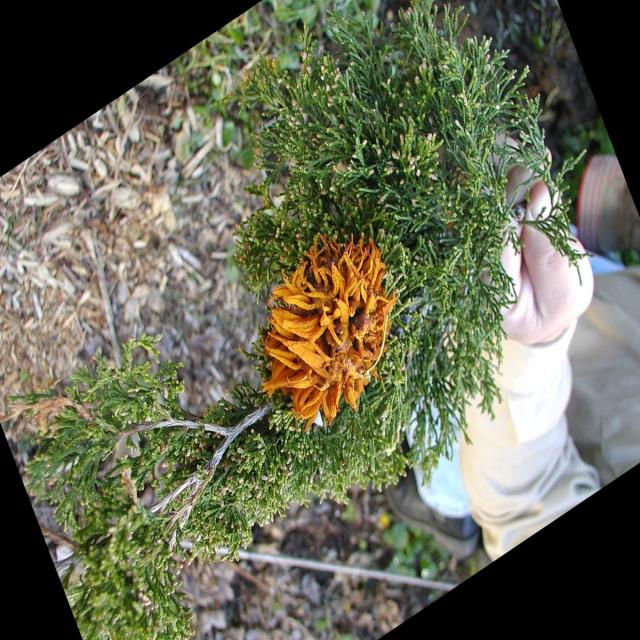Gymnosporangium_Rusts: (260, 230, 398, 430)
